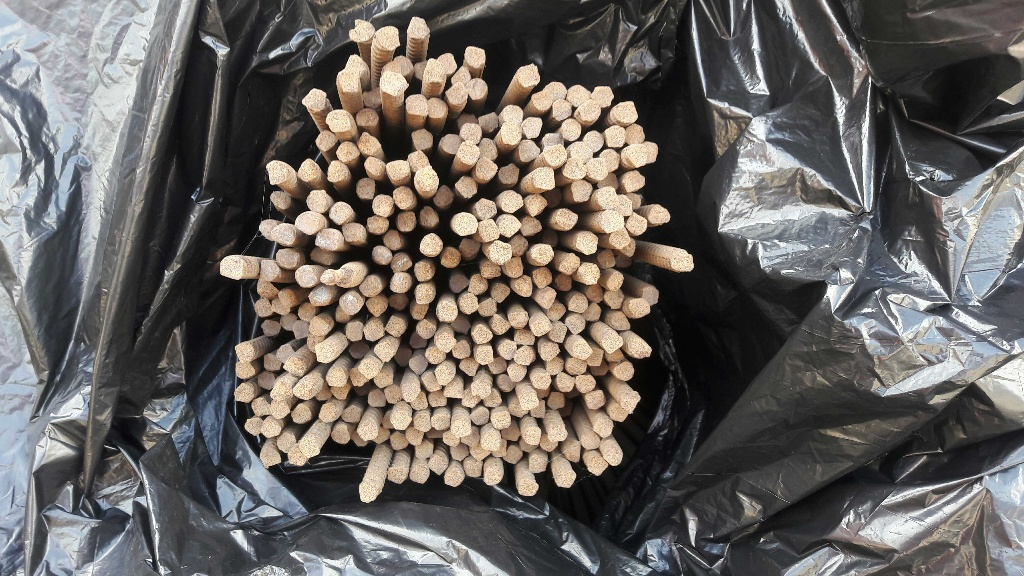dipstick: (378, 71, 407, 96), (294, 212, 323, 235), (374, 25, 400, 50), (217, 257, 243, 282), (417, 233, 443, 258), (497, 214, 523, 239), (336, 68, 360, 94), (415, 166, 439, 192), (331, 265, 358, 288), (457, 141, 480, 168), (386, 159, 411, 183), (499, 190, 524, 214), (264, 160, 287, 186), (349, 19, 373, 43), (344, 53, 368, 77), (405, 93, 429, 117), (304, 190, 328, 214), (532, 166, 556, 190), (327, 201, 352, 224), (488, 241, 513, 264), (670, 250, 695, 273), (408, 149, 432, 172), (391, 186, 415, 209), (454, 212, 478, 235), (496, 162, 520, 185), (499, 120, 522, 144), (625, 145, 649, 168), (569, 178, 593, 201), (326, 110, 351, 132), (457, 174, 478, 200), (293, 266, 319, 287), (272, 223, 295, 246), (339, 291, 362, 314), (576, 232, 599, 255), (326, 160, 348, 184), (257, 260, 281, 282), (373, 339, 395, 363), (475, 158, 497, 182), (516, 63, 540, 85), (525, 194, 547, 218), (569, 84, 593, 106), (604, 124, 626, 148), (600, 209, 624, 231), (465, 44, 486, 69), (410, 128, 435, 149), (275, 248, 300, 269), (509, 276, 534, 297), (306, 286, 332, 306), (357, 132, 379, 155), (314, 129, 336, 152), (363, 155, 385, 178), (439, 247, 461, 270), (312, 343, 334, 366), (268, 397, 290, 420), (317, 402, 339, 425), (544, 144, 566, 167), (591, 85, 614, 107), (302, 88, 326, 109), (297, 158, 318, 182), (254, 278, 278, 299), (415, 282, 436, 306), (463, 455, 484, 479), (478, 137, 499, 161), (647, 204, 671, 225), (309, 246, 334, 266), (621, 170, 646, 190), (626, 298, 651, 318), (410, 16, 429, 42), (371, 194, 393, 216), (362, 319, 384, 341), (386, 316, 408, 338), (587, 158, 609, 180), (596, 186, 618, 208), (629, 337, 651, 359), (355, 178, 378, 199), (258, 219, 279, 242), (502, 257, 525, 278), (474, 197, 497, 218), (460, 123, 483, 144), (519, 139, 540, 162), (601, 330, 624, 351), (601, 445, 624, 466), (418, 206, 442, 226), (608, 311, 632, 331), (336, 141, 358, 162), (316, 229, 337, 251), (359, 277, 381, 298), (292, 379, 314, 400), (419, 370, 441, 391), (481, 464, 503, 485), (552, 98, 573, 120), (341, 221, 361, 244), (523, 117, 543, 140), (618, 100, 638, 123), (601, 148, 621, 171), (622, 390, 642, 413), (426, 58, 445, 82), (287, 443, 306, 467), (531, 245, 555, 264), (568, 142, 593, 160), (446, 82, 467, 103), (380, 228, 401, 249), (448, 272, 469, 293), (366, 296, 387, 317), (284, 357, 305, 378), (232, 383, 253, 404), (366, 389, 387, 410), (434, 332, 455, 353), (468, 273, 489, 294), (443, 133, 464, 154), (477, 111, 498, 132), (561, 118, 582, 139), (626, 124, 647, 145), (583, 130, 604, 151), (559, 253, 580, 274), (555, 468, 576, 489), (269, 190, 291, 210), (366, 214, 388, 234), (490, 410, 512, 430), (478, 220, 500, 240), (546, 81, 568, 101), (234, 343, 257, 362), (564, 159, 587, 178), (607, 229, 630, 248), (588, 458, 611, 477), (434, 185, 454, 206), (259, 449, 280, 469), (387, 464, 408, 484), (436, 302, 457, 322), (424, 345, 445, 365), (428, 455, 448, 476), (626, 214, 647, 234), (372, 244, 391, 266), (277, 288, 296, 310), (390, 254, 412, 273), (297, 439, 319, 458), (332, 423, 351, 445), (448, 442, 470, 461), (501, 423, 523, 442), (457, 357, 479, 376), (459, 237, 481, 256), (579, 101, 601, 120), (582, 263, 601, 285), (574, 373, 596, 392), (584, 390, 606, 409), (355, 109, 378, 127), (308, 317, 331, 335), (349, 364, 367, 387), (508, 312, 531, 330), (596, 172, 619, 190), (478, 261, 502, 278), (362, 88, 382, 108), (358, 422, 378, 442), (444, 468, 464, 488), (533, 267, 553, 287), (614, 362, 634, 382), (468, 78, 487, 99), (270, 297, 291, 316), (389, 273, 410, 292), (234, 361, 255, 380), (325, 368, 346, 387), (435, 364, 454, 385), (443, 381, 464, 400), (472, 325, 493, 344), (491, 315, 512, 334), (508, 236, 529, 255), (597, 248, 616, 269), (569, 293, 588, 314), (429, 97, 447, 119), (398, 210, 416, 232), (387, 293, 409, 311), (361, 360, 379, 382), (408, 331, 430, 349), (402, 380, 420, 402), (451, 340, 473, 358), (542, 131, 564, 149), (556, 209, 578, 227), (605, 289, 623, 311), (414, 261, 433, 281), (256, 371, 275, 391), (251, 397, 270, 417), (291, 404, 311, 423), (276, 432, 295, 452), (342, 405, 361, 425), (358, 482, 377, 502), (409, 465, 429, 484), (416, 318, 435, 338), (412, 411, 431, 431), (459, 293, 479, 312), (532, 90, 552, 109), (530, 318, 550, 337), (565, 314, 584, 334), (594, 418, 614, 437), (296, 302, 317, 320), (391, 430, 409, 451), (481, 430, 499, 451), (615, 194, 633, 215), (540, 342, 561, 360), (396, 54, 413, 76), (440, 53, 457, 75), (270, 383, 292, 400), (502, 104, 524, 121), (351, 426, 367, 449), (518, 478, 537, 497), (529, 454, 548, 473), (497, 373, 516, 392), (508, 363, 527, 382), (586, 284, 605, 303), (556, 373, 575, 392), (253, 298, 273, 316), (409, 301, 429, 319), (384, 384, 402, 404), (427, 390, 447, 408), (472, 381, 492, 399), (521, 217, 541, 235), (644, 141, 659, 165), (555, 274, 575, 292), (549, 324, 567, 344), (608, 405, 628, 423), (451, 66, 472, 83), (509, 399, 526, 420), (457, 112, 478, 129), (346, 341, 368, 357), (565, 440, 581, 462), (345, 322, 363, 341), (291, 320, 310, 338), (261, 420, 280, 438), (244, 417, 262, 436), (406, 426, 425, 444), (414, 443, 433, 461), (392, 410, 410, 429), (452, 315, 471, 333), (431, 412, 450, 430), (470, 407, 489, 425), (478, 298, 497, 316), (541, 228, 560, 246), (641, 286, 659, 305), (581, 432, 600, 450), (261, 319, 278, 339), (474, 347, 494, 364), (547, 425, 567, 442), (263, 354, 284, 370), (410, 353, 426, 374), (567, 358, 588, 374), (622, 235, 637, 257), (442, 430, 460, 448), (461, 428, 479, 446), (547, 189, 565, 207), (606, 272, 624, 290), (315, 384, 332, 403), (496, 341, 516, 357), (614, 251, 634, 267), (531, 373, 552, 388), (276, 344, 293, 362), (394, 348, 411, 366), (411, 391, 428, 409), (483, 391, 501, 408), (524, 427, 541, 445), (493, 284, 510, 302), (584, 304, 602, 321), (572, 341, 590, 358), (279, 312, 295, 331), (471, 442, 490, 458), (451, 420, 470, 436), (505, 446, 521, 465), (517, 329, 536, 345), (540, 289, 556, 308), (588, 347, 604, 366), (351, 381, 371, 396), (423, 427, 444, 441), (463, 390, 480, 407), (489, 358, 507, 374), (547, 391, 563, 409), (538, 436, 557, 451), (307, 333, 321, 353), (375, 371, 392, 387), (515, 347, 531, 364), (549, 303, 565, 320), (329, 385, 347, 400), (520, 438, 538, 453), (545, 358, 563, 373), (563, 385, 581, 400), (493, 439, 507, 458), (606, 348, 626, 361), (523, 393, 539, 409), (334, 306, 349, 323), (591, 361, 608, 376), (383, 412, 397, 430), (627, 191, 641, 209), (413, 60, 426, 79), (384, 61, 401, 75), (375, 426, 389, 443), (534, 385, 551, 399), (561, 399, 572, 418)
